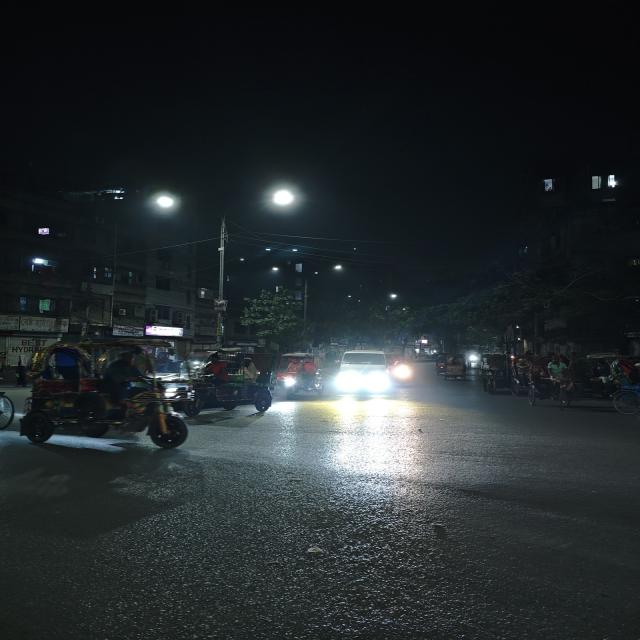car: (330, 348, 399, 400)
motorcycle: (392, 357, 415, 387)
rickshaw: (15, 338, 195, 457), (522, 352, 640, 413), (192, 350, 278, 416), (274, 353, 327, 399), (431, 352, 470, 383)
